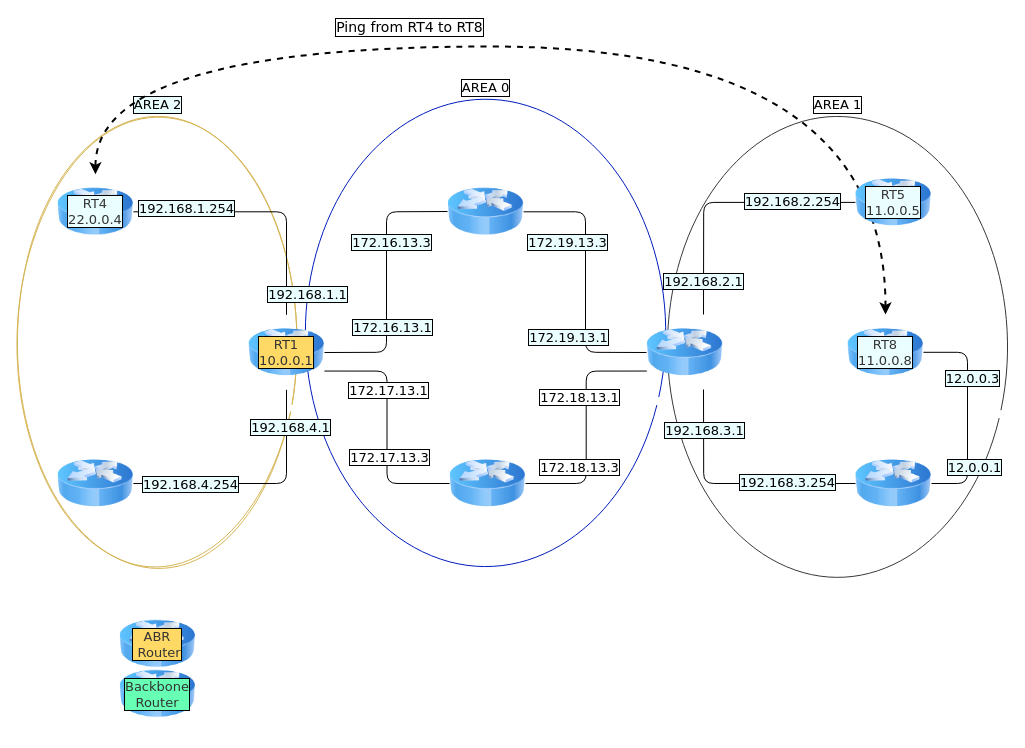
Some shapes in this 1025 by 748 pixel diagram are drawn without their labels. Each missing label, with the centre of its shape:
RT2 10.0.0.2: point (485, 211)
RT22 10.0.0.4: point (487, 483)
RT3 10.0.0.3: point (684, 351)
RT6 11.0.0.6: point (893, 483)
RT7 22.0.0.7: point (95, 483)
